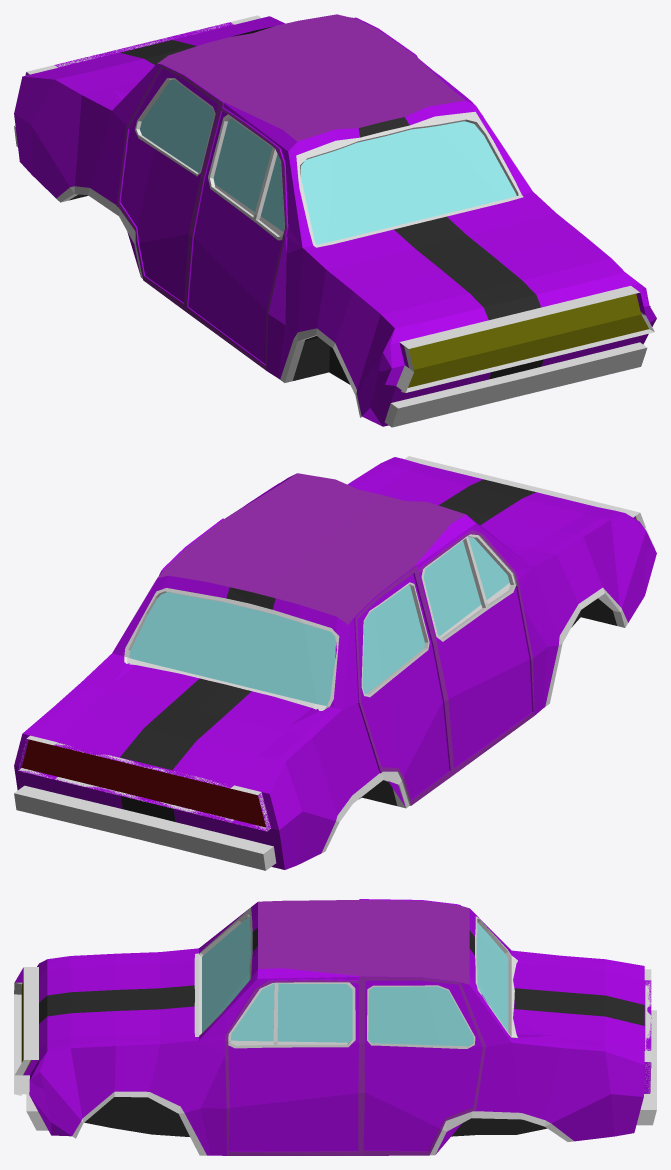
File: jiga.fbx
The picture shows the model from 3 angles, top to bottom: view 1: azimuth 30°, elevation 25°; view 2: azimuth 150°, elevation 25°; view 3: azimuth 270°, elevation 25°; orthographic projection. The views are drawn at different scales.
Parts seen in each view (by area): view 1: Куб, oknablyat, Куб.002; view 2: Куб, oknablyat, Куб.002; view 3: Куб, oknablyat, Куб.002.
Part boxes in pixels (<box>): Куб: <box>14,14,656,427</box>; oknablyat: <box>140,79,516,244</box>; Куб.002: <box>126,17,467,246</box>; Куб: <box>14,456,656,870</box>; oknablyat: <box>129,537,509,705</box>; Куб.002: <box>112,519,532,709</box>; Куб: <box>14,899,656,1155</box>; oknablyat: <box>202,917,508,1046</box>; Куб.002: <box>199,899,511,1047</box>.
Size of the model in its own units: 92.52 by 66.55 by 229.
